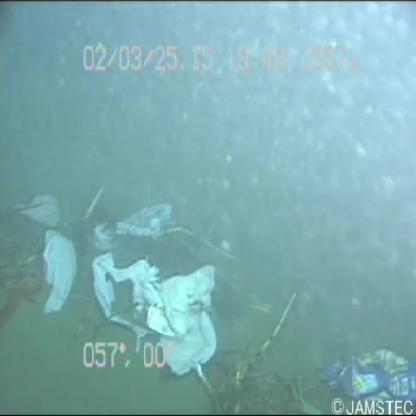Rác: (87, 198, 229, 382), (20, 184, 81, 318)
